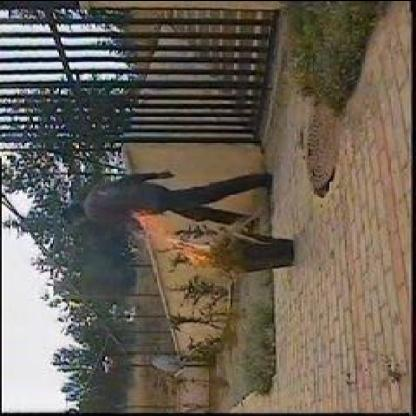foggia-v2-map80-epoch100 - v1 4323: (140, 219, 218, 266)
